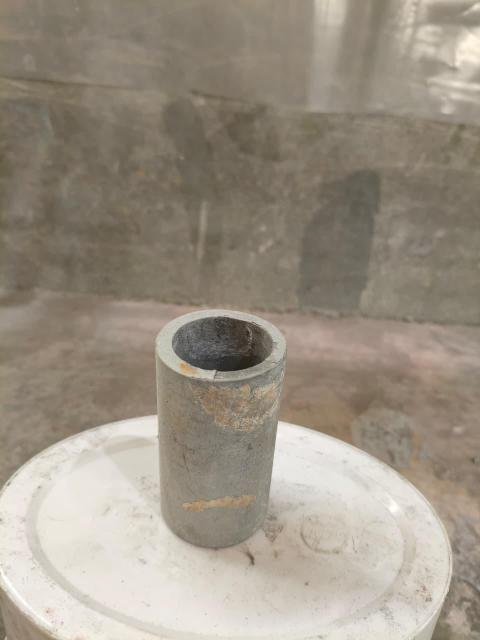Metal: (153, 300, 287, 548)
